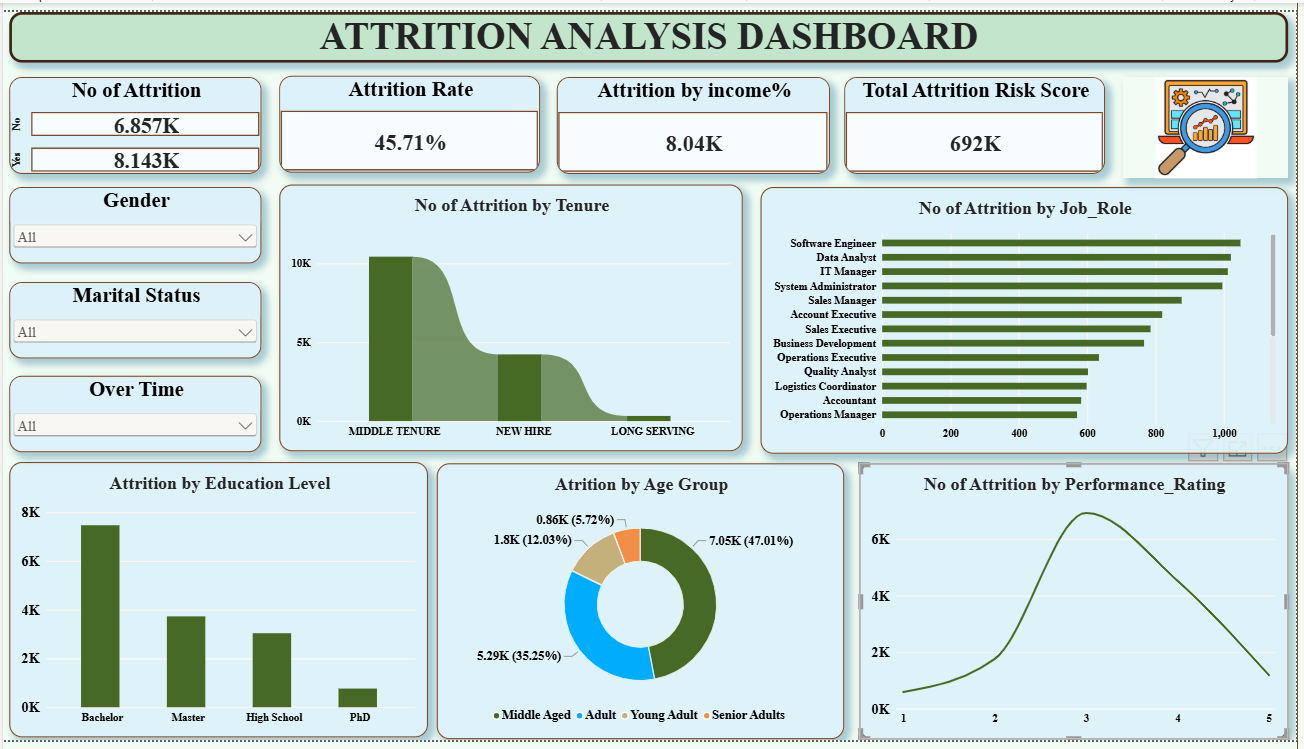

This screenshot's page, from the dashboard's own definition file:
{"tool":"powerbi","page":{"name":"Attrition Analysis","canvas":[1920,1080],"ordinal":1},"visuals":[{"type":"textbox","box":[9.2,0,1898.4,75.2],"z":0},{"type":"cardVisual","title":"No of Attrition","fields":{"Data":["CountNonNull(Attrition Analysis.Atrition)"],"Rows":["Attrition Analysis.Atrition"]},"box":[9.2,97.2,374.5,143.9],"z":1000},{"type":"cardVisual","title":"Attrition Rate","fields":{"Data":["Table1.Attrition_Rate"]},"box":[410.9,95.4,387.4,143.9],"z":2000},{"type":"cardVisual","title":"Attrition  by income%","fields":{"Data":["Table1.Average_Income_Attrition"]},"box":[821.7,97.2,405.8,143.9],"z":3000},{"type":"cardVisual","title":"Total Attrition Risk Score","fields":{"Data":["Sum(Table1.Attrition_Risk_Score)"]},"box":[1249.1,97.2,387.4,143.9],"z":4000},{"type":"columnChart","title":"Attrition by Education Level","fields":{"Category":["Table1.Education_Level"],"Y":["CountNonNull(Table1.Attrition)"]},"box":[9.2,667.7,621.8,409],"z":5000},{"type":"ribbonChart","title":"No of Attrition by Tenure","fields":{"Category":["Attrition Analysis.Tenure"],"Y":["CountNonNull(Table1.Attrition)"]},"box":[410.9,256.8,687.8,396.2],"z":6000},{"type":"lineChart","title":"No of Attrition by Performance_Rating","fields":{"Category":["Attrition Analysis.Performance_Rating"],"Y":["CountNonNull(Table1.Attrition)"]},"box":[1271,669.6,636.4,409.5],"z":7000},{"type":"pieChart","title":"Atrition by Age Group","fields":{"Category":["Attrition Analysis.Age Group"],"Y":["CountNonNull(Attrition Analysis.Atrition)"]},"box":[643.8,669.6,605.1,409.5],"z":8000},{"type":"clusteredBarChart","title":"No of Attrition by Job_Role","fields":{"Category":["Table1.Job_Role"],"Y":["CountNonNull(Table1.Attrition)"]},"box":[1124.4,260.5,783.2,396.2],"z":9000},{"type":"slicer","title":"Gender","fields":{"Values":["Table1.Gender","Table1.Gender"]},"box":[9.2,260.5,374.2,113.7],"z":10000},{"type":"slicer","title":"Marital Status","fields":{"Values":["Table1.Marital_Status"]},"box":[9.2,399.9,374.2,113.7],"z":11000},{"type":"slicer","title":"Over Time","fields":{"Values":["Table1.Overtime"]},"box":[9.2,539.3,374.2,113.7],"z":12000},{"type":"image","box":[1661.8,97.2,245.8,150.4],"z":13000}]}

Visuals, with their boxes in screenshot pixels (x1, y1, x2, y2), scaled from the page's 1920x1080 canvas onto the 1304x749 screenshot:
textbox: detection(6, 0, 1296, 52)
"No of Attrition" cardVisual: detection(6, 67, 261, 167)
"Attrition Rate" cardVisual: detection(279, 66, 542, 166)
"Attrition  by income%" cardVisual: detection(558, 67, 834, 167)
"Total Attrition Risk Score" cardVisual: detection(848, 67, 1111, 167)
"Attrition by Education Level" columnChart: detection(6, 463, 429, 747)
"No of Attrition by Tenure" ribbonChart: detection(279, 178, 746, 453)
"No of Attrition by Performance_Rating" lineChart: detection(863, 464, 1295, 748)
"Atrition by Age Group" pieChart: detection(437, 464, 848, 748)
"No of Attrition by Job_Role" clusteredBarChart: detection(764, 181, 1296, 455)
"Gender" slicer: detection(6, 181, 260, 260)
"Marital Status" slicer: detection(6, 277, 260, 356)
"Over Time" slicer: detection(6, 374, 260, 453)
image: detection(1129, 67, 1296, 172)
